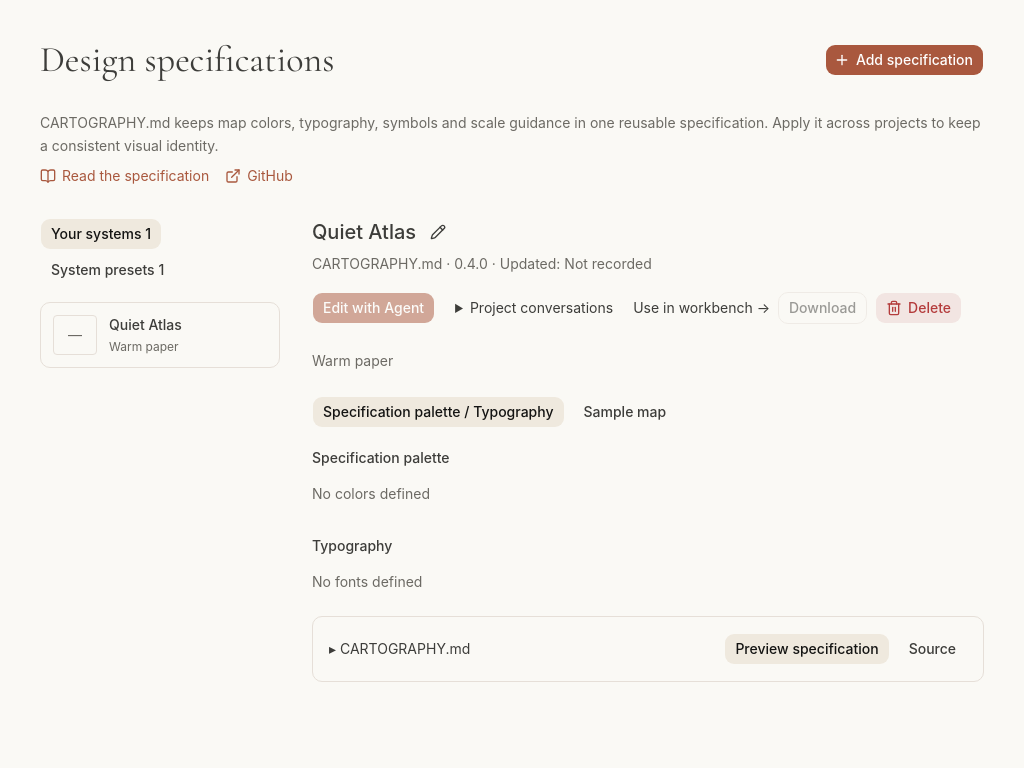
filters user systems and explicitly marked presets using real counts
What coordinates should you click on to do the following:
click the button "System presets 1"
I would click on:
 (108, 270)
Its box is [40, 254, 175, 286].
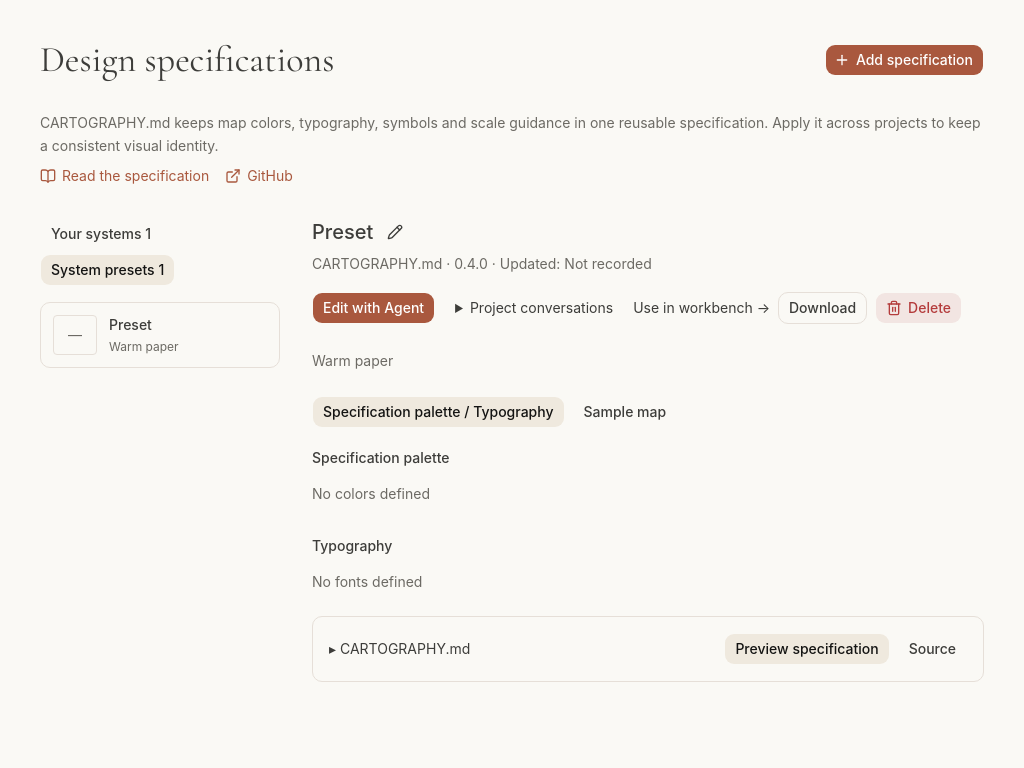
Expected: the heading "Preset" is shown, [312, 218, 373, 246]
Expected: the button with aria-label "Preview specification: Preset" is shown, [40, 302, 280, 368]
